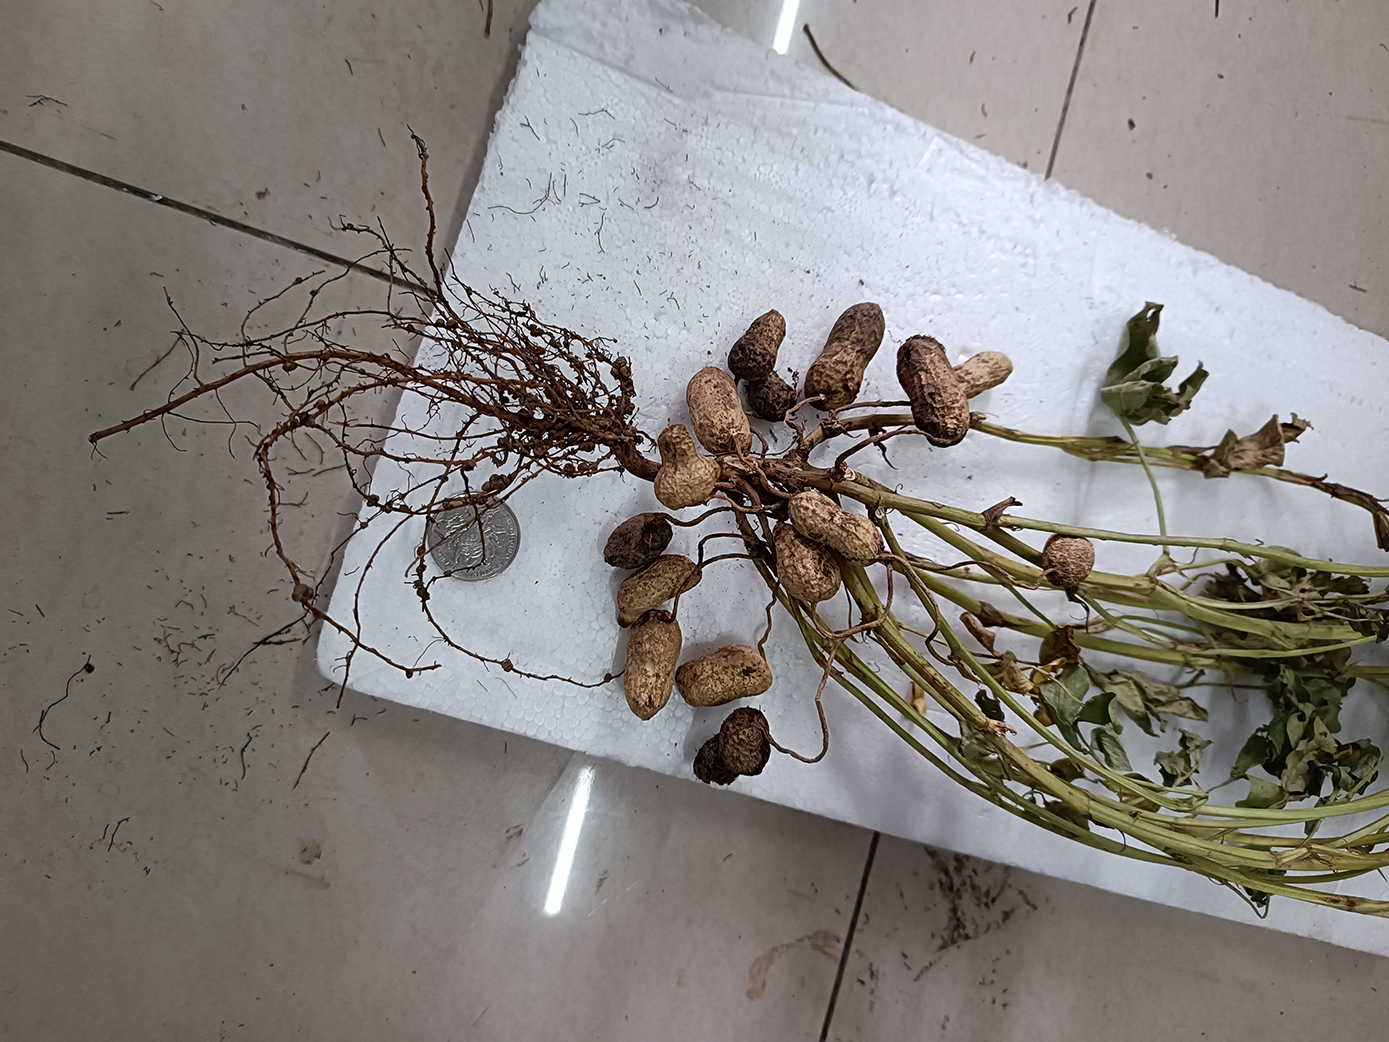h: (788, 490, 884, 566), (617, 555, 703, 626), (676, 646, 776, 706), (626, 612, 681, 719), (769, 520, 840, 603), (688, 366, 751, 458), (655, 422, 720, 509), (1043, 534, 1095, 590), (958, 348, 1009, 397)
l: (805, 302, 886, 413), (896, 336, 962, 445), (693, 708, 771, 786), (732, 309, 785, 380), (603, 514, 672, 568), (754, 371, 798, 419)
